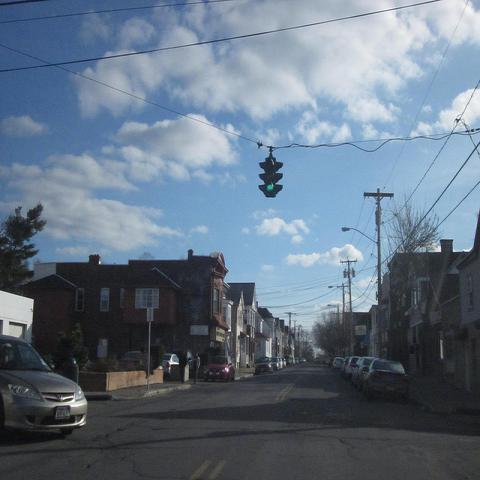car: (1, 335, 89, 444), (361, 358, 410, 403), (204, 356, 235, 382), (354, 357, 374, 390), (344, 356, 362, 380), (161, 353, 179, 375), (256, 357, 273, 372), (270, 360, 283, 374), (341, 358, 350, 374), (334, 358, 344, 370)
